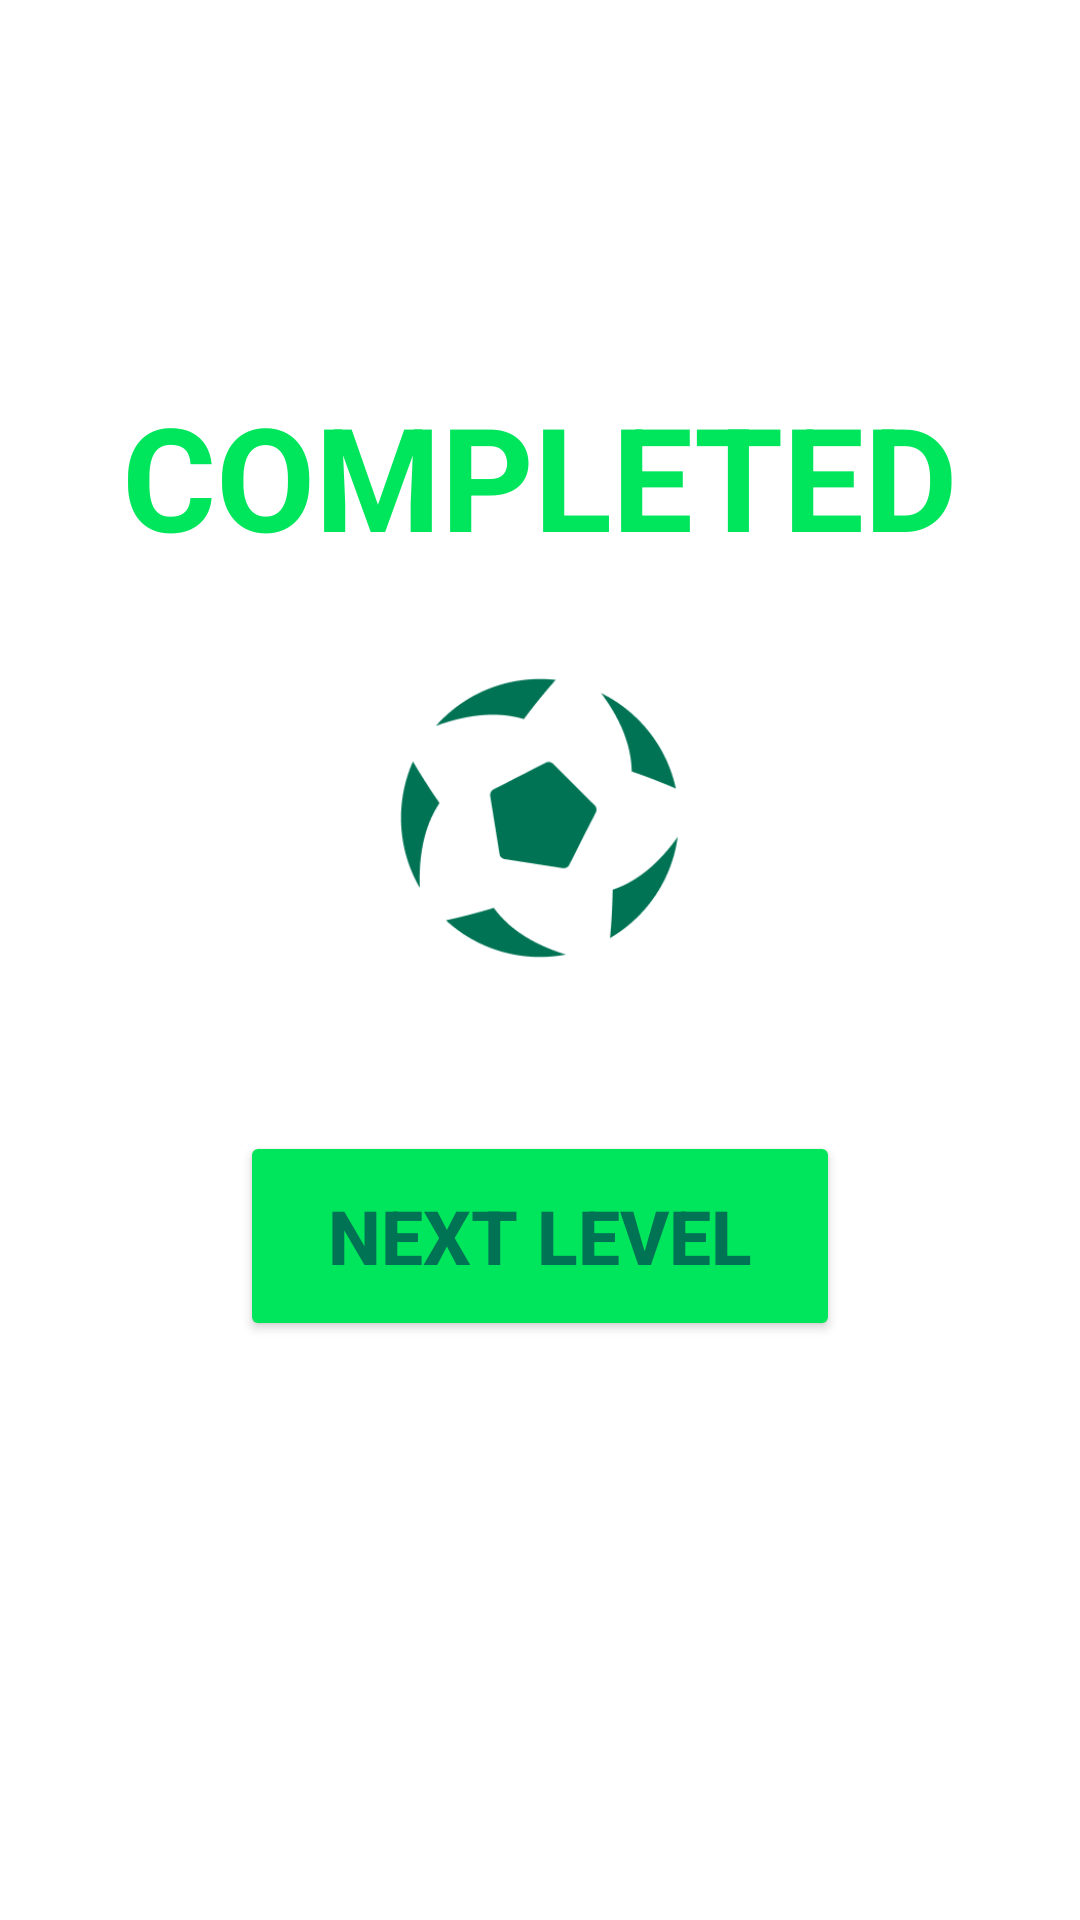

Icon bounding boxes for this 1080px×1920px phone screenshot, format (x1=x1, y1=y1, x2=x2, y2=y2):
ball: (x1=400, y1=678, x2=678, y2=958)
